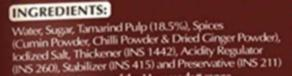ingredients: (8, 4, 286, 75)
